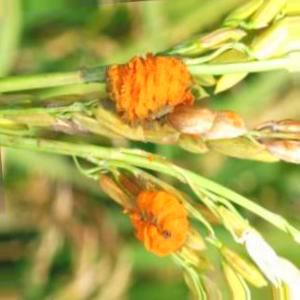Leaf_Scald: (119, 180, 184, 258), (110, 63, 188, 120)
